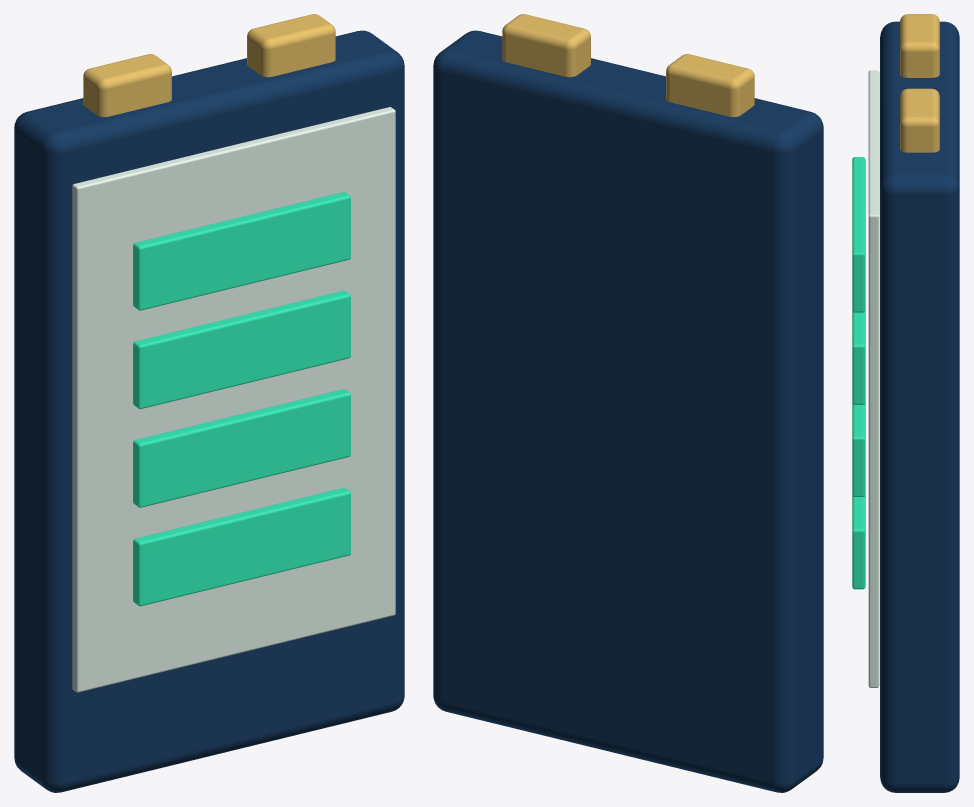
Rendered from bateria.glb.
The picture shows the model from 3 angles, left to right: view 1: azimuth 30°, elevation 25°; view 2: azimuth 150°, elevation 25°; view 3: azimuth 270°, elevation 25°; orthographic projection. The views are drawn at different scales.
Parts seen in each view (by area): view 1: Bateria, IndicadorDeCarga; view 2: Bateria; view 3: Bateria, IndicadorDeCarga.
Boxes of the visible parts, x1,y1,x2,y2 form: Bateria: (14,14,404,792); IndicadorDeCarga: (133,192,350,606); Bateria: (433,14,823,792); Bateria: (868,14,959,792); IndicadorDeCarga: (852,157,865,589).
Bounding box in the file's own units: 0.44 × 0.811 × 0.1215.
